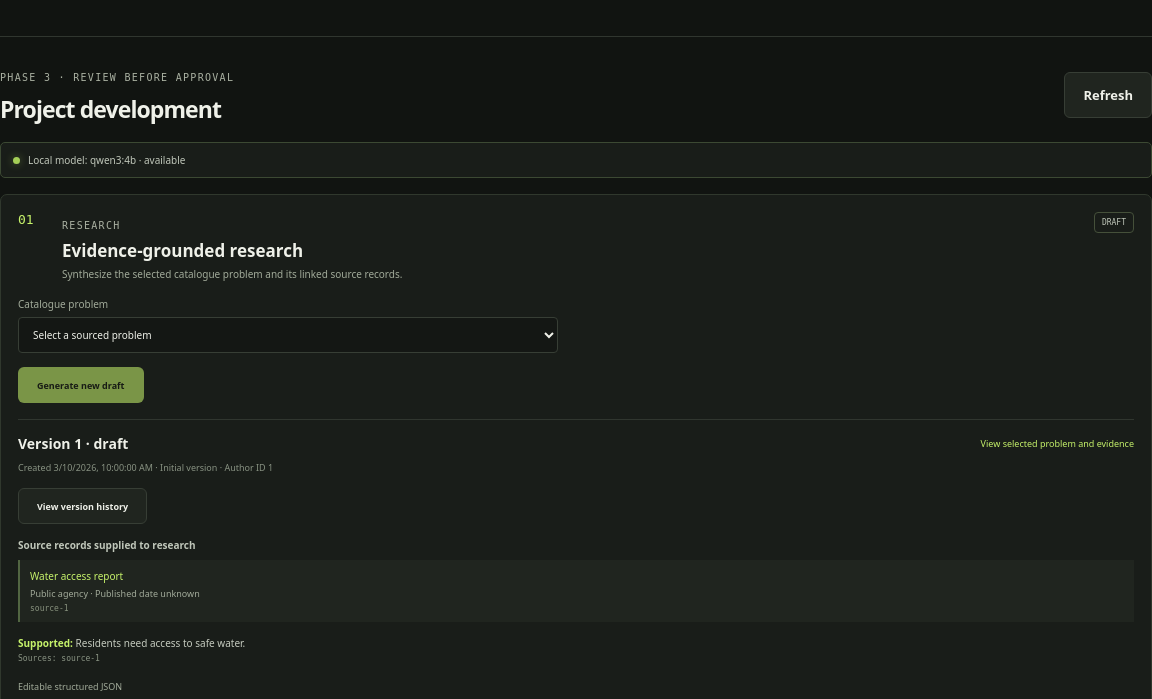
ProjectWorkflow › reports a retryable version-history loading failure
expect the heading "Version 1 · draft" is shown: met, box x1=18 y1=434 x2=128 y2=453
Click the button "View version history": x=83, y=506 x1=18 y1=488 x2=147 y2=524
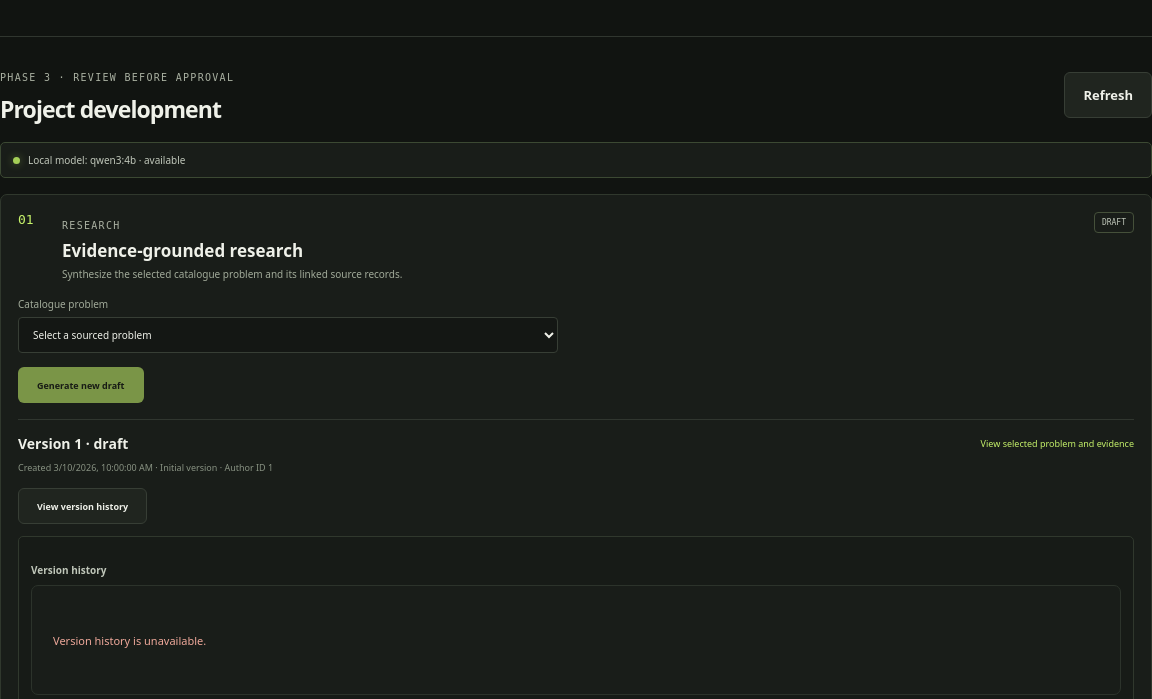
expect the message "Version history is unavailable." is shown: met, box x1=31 y1=585 x2=1121 y2=695
